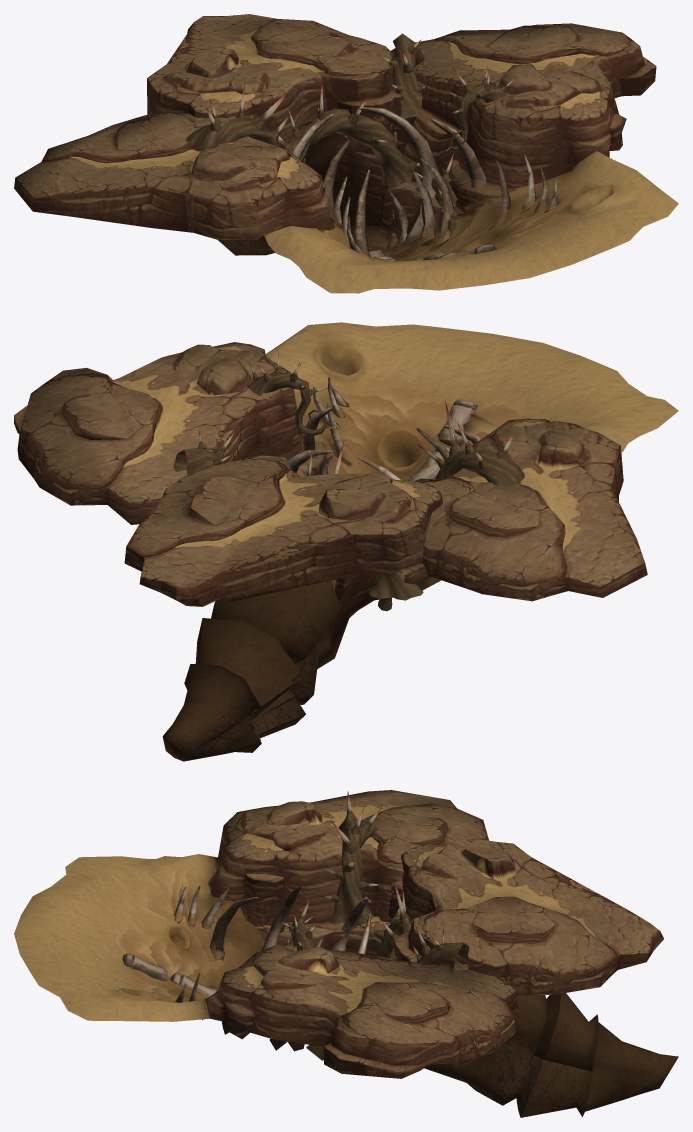
Rendered from nashgar_construct_entrance01.FBX.
The picture shows the model from 3 angles, top to bottom: view 1: azimuth 30°, elevation 25°; view 2: azimuth 150°, elevation 25°; view 3: azimuth 270°, elevation 25°; orthographic projection. The views are drawn at different scales.
Visible parts, largest first — view 1: nashgar_construct_entrance01; view 2: nashgar_construct_entrance01; view 3: nashgar_construct_entrance01.
Part boxes in pixels (left/top/right/bottom): nashgar_construct_entrance01: left=14, top=14, right=678, bottom=293; nashgar_construct_entrance01: left=14, top=322, right=678, bottom=761; nashgar_construct_entrance01: left=14, top=790, right=678, bottom=1117.
Size of the model in its own units: 43.11 by 17.75 by 43.14.
